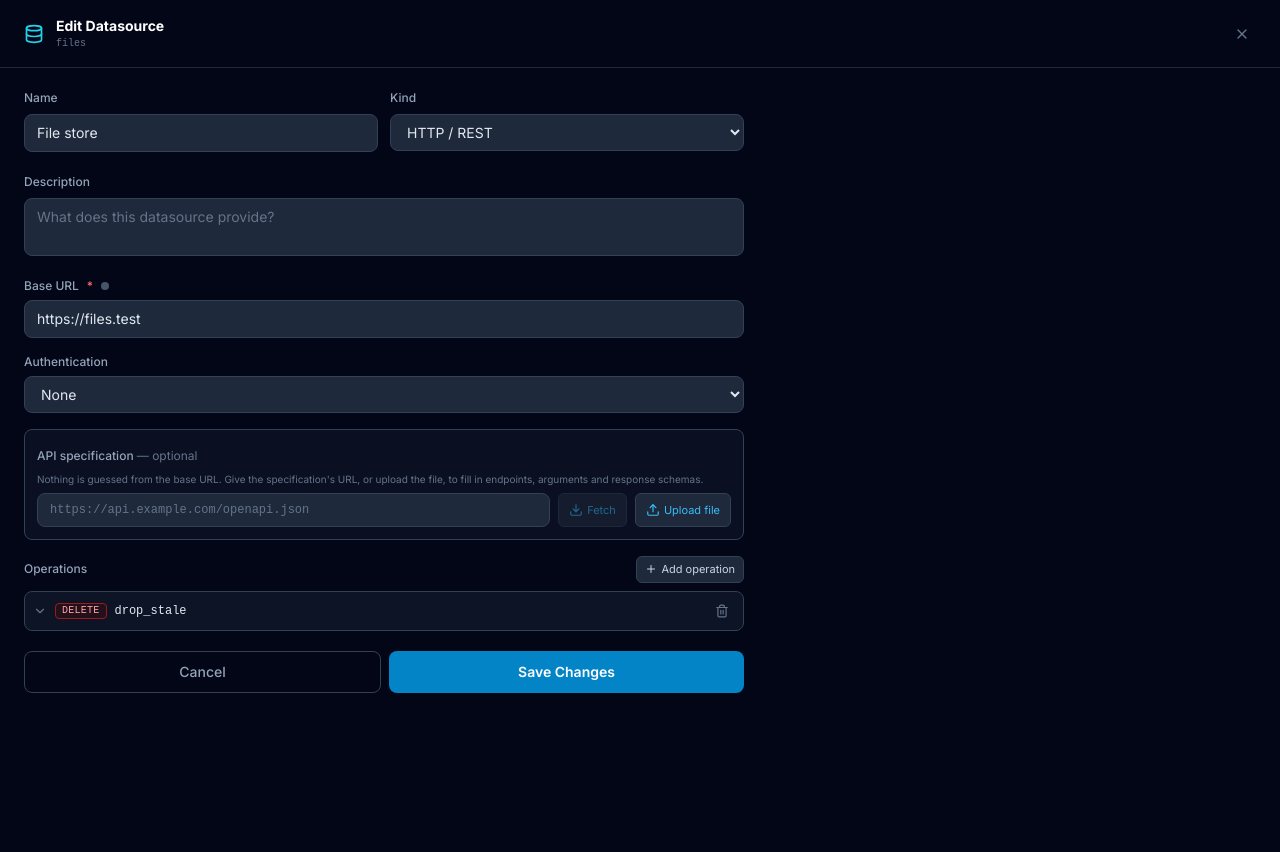
Test: Try run on a destructive operation › a single-row deletion is not pluralised
Click the text "drop_stale" at [150, 610], box [114,602,186,618]
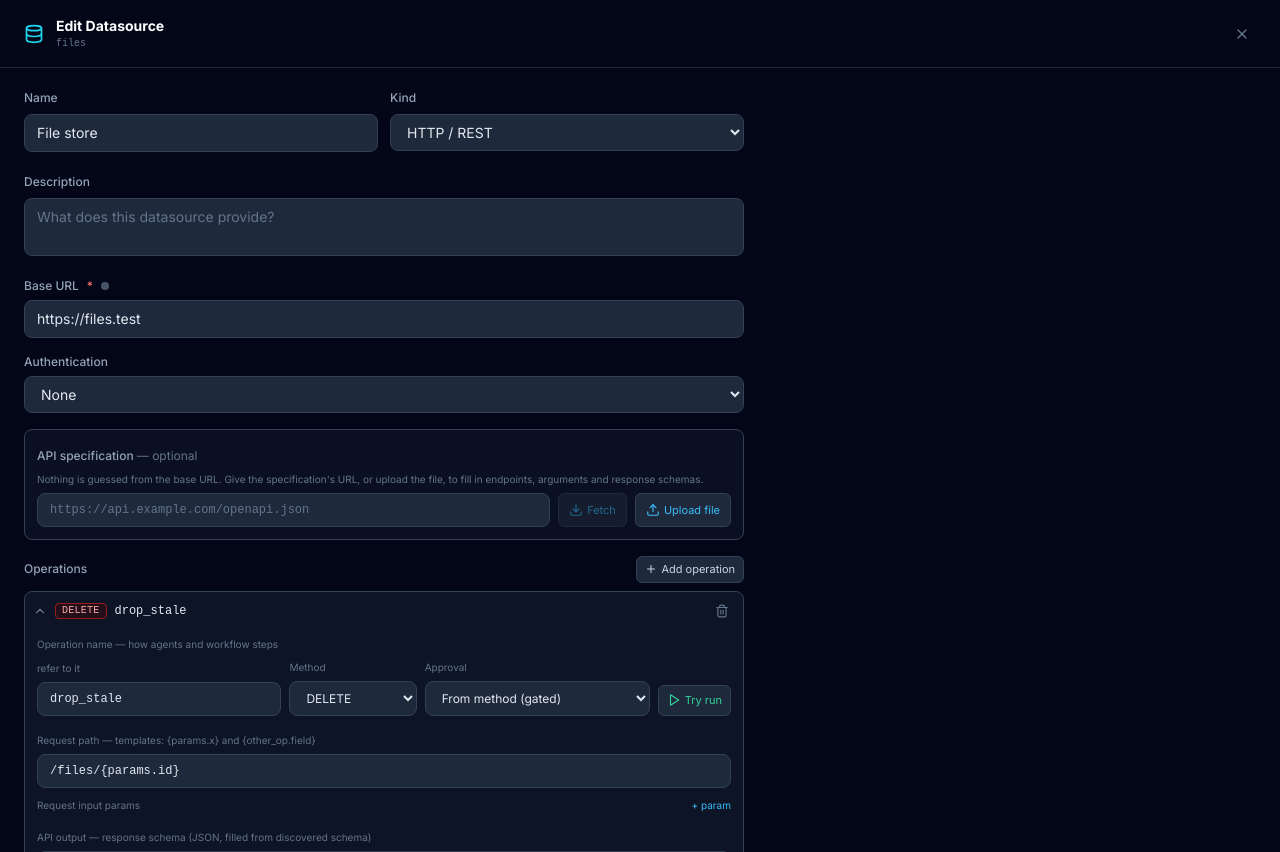
Click the button "Try run" at [694, 700], box [658,685,731,716]
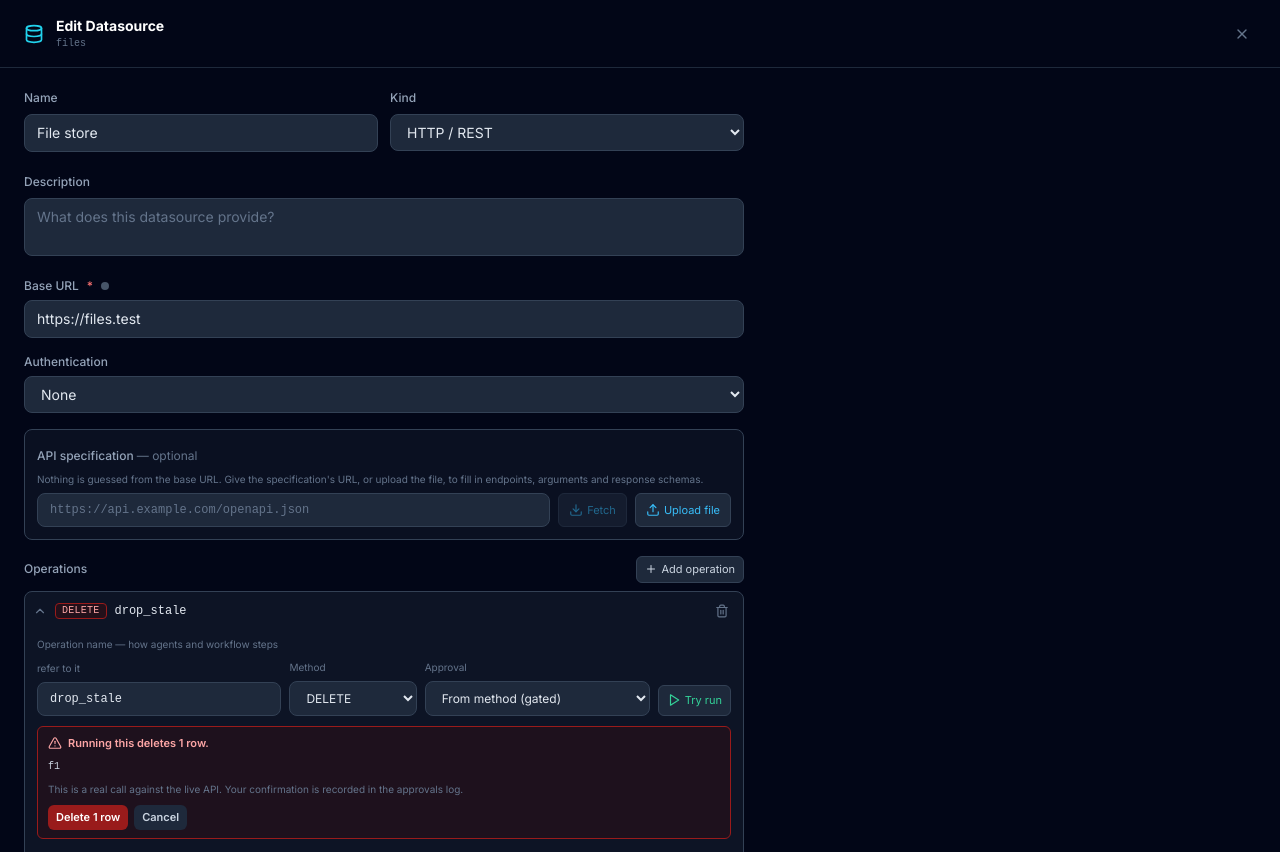
Expected: the text "Running this deletes 1 row." is shown, [48,736,209,750]
